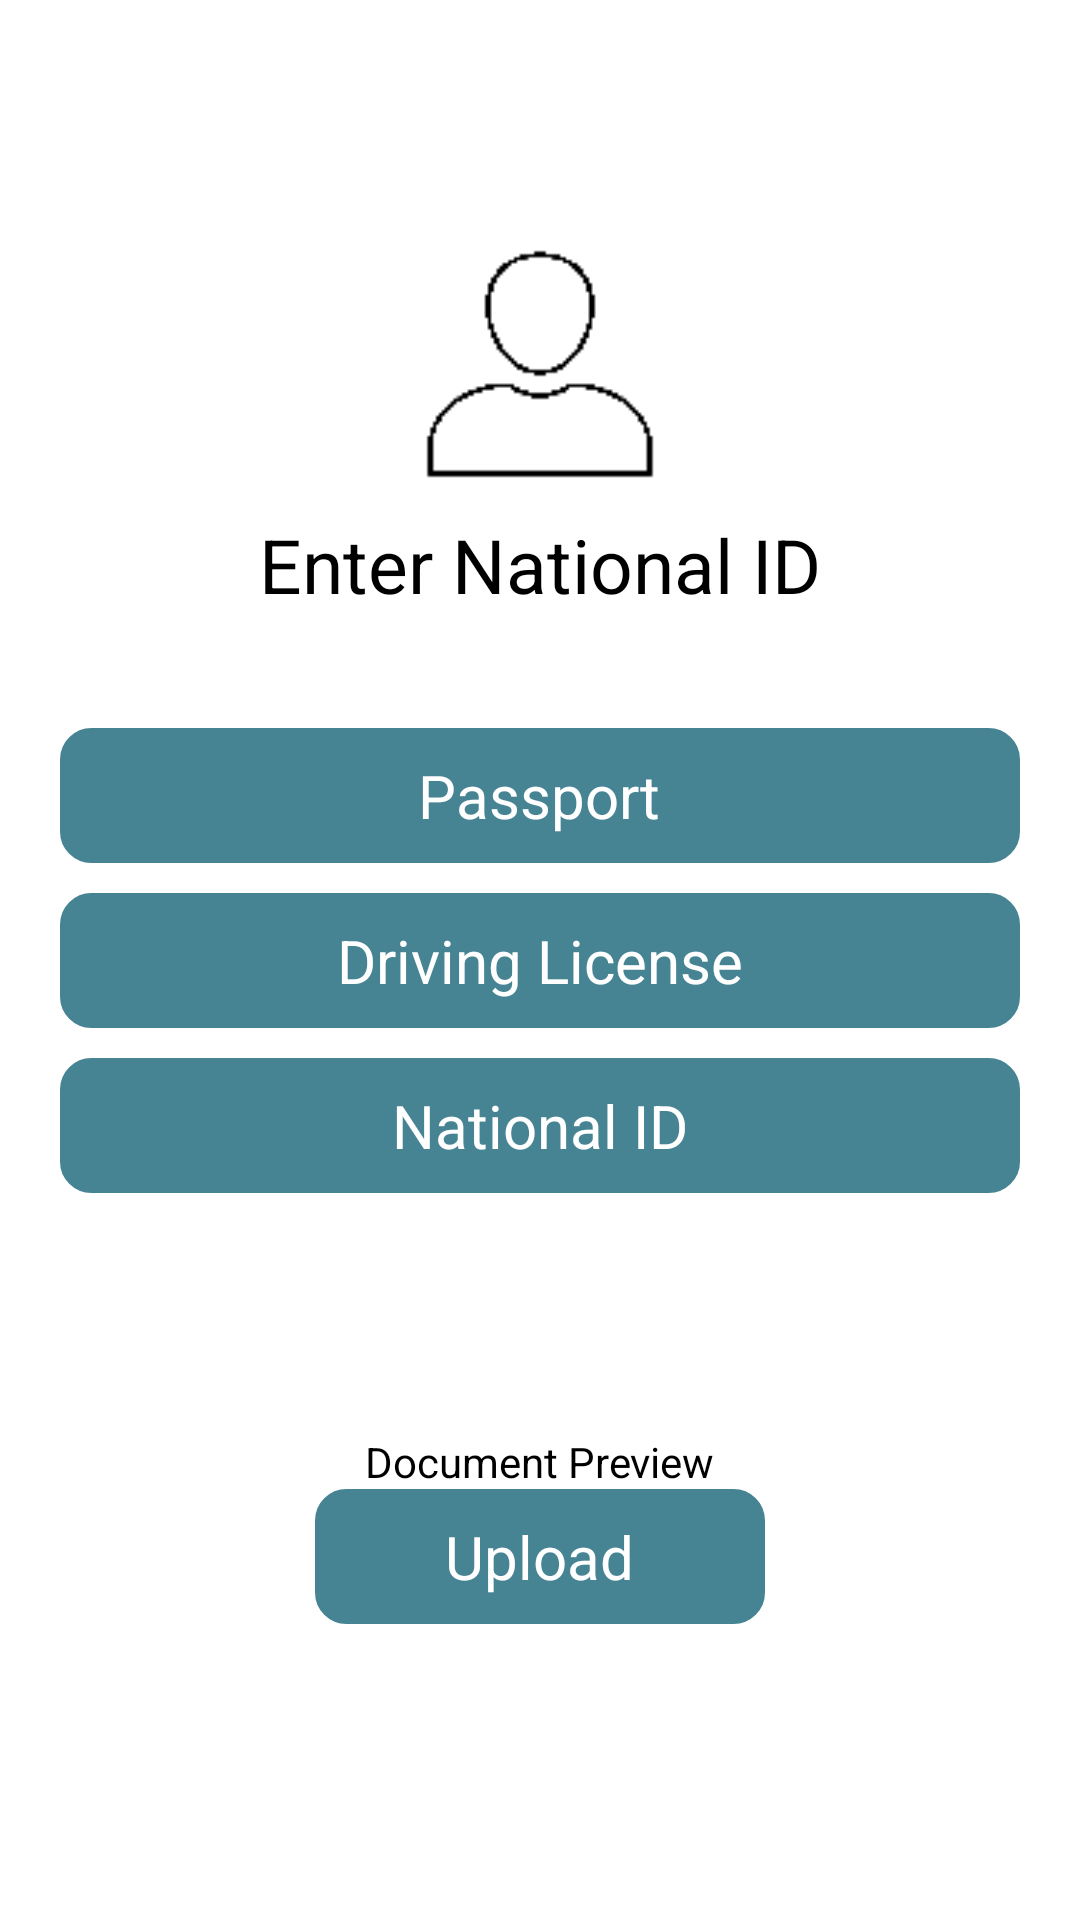

Point at icon controls on the screen. Image size 1080 × 1920, points as (x=x, y=y).
profile: (x=540, y=364)
